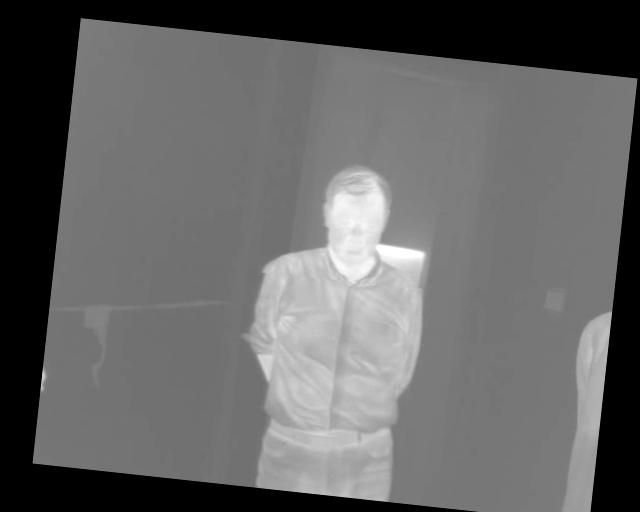face: (315, 160, 396, 267)
